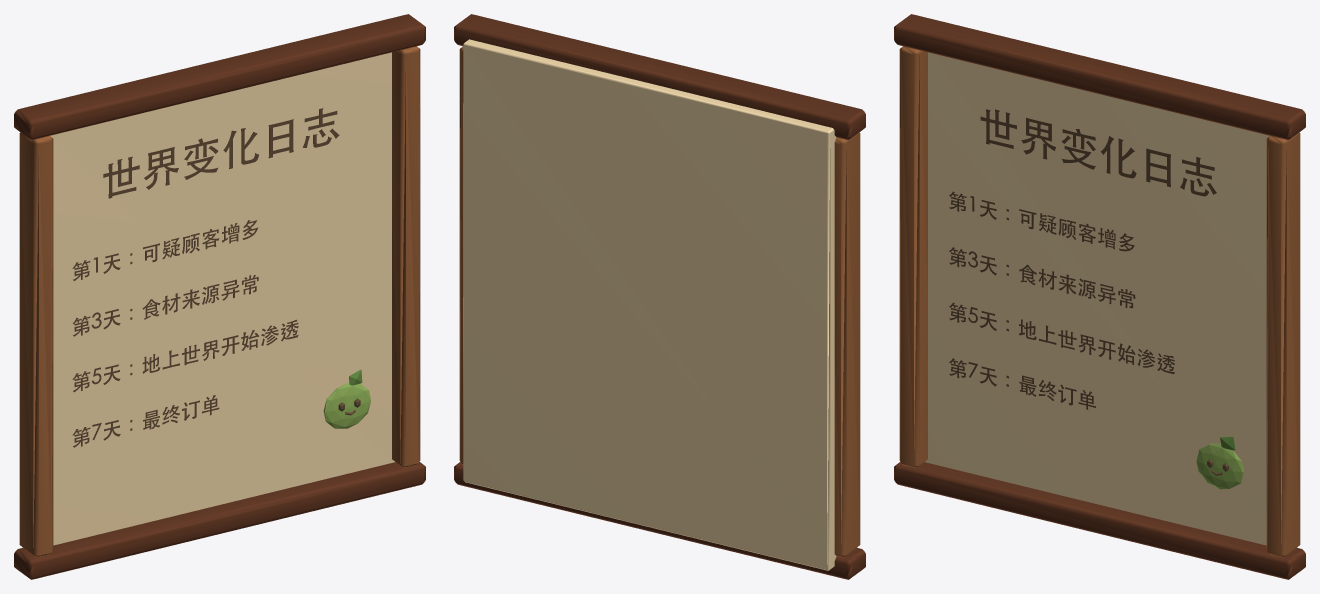
The model's file is world_log.fbx.
3 views of the same model, side by side, from view 1: azimuth 30°, elevation 25°; view 2: azimuth 150°, elevation 25°; view 3: azimuth 330°, elevation 25° (orthographic).
Visible parts, largest first — view 1: world_log; view 2: world_log; view 3: world_log.
Part boxes in pixels (<box>): world_log: <box>14,14,425,579</box>; world_log: <box>454,14,865,579</box>; world_log: <box>894,14,1305,579</box>.
Size of the model in its own units: 90 by 99.5 by 9.1.
